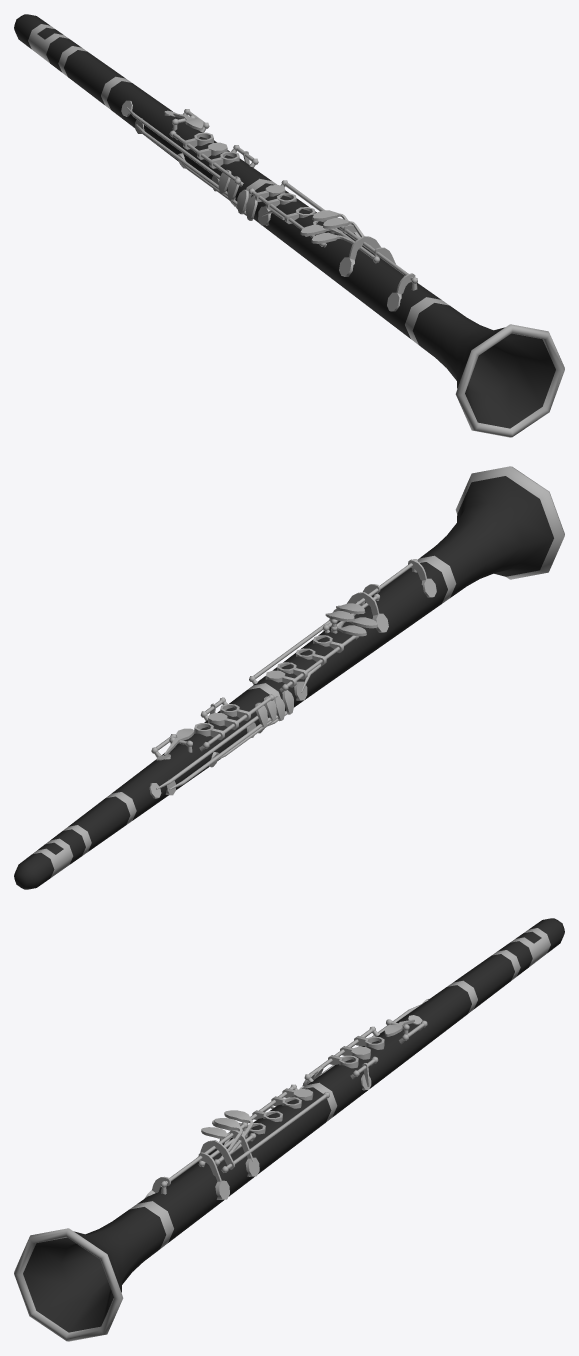
File: Clarinet_01.fbx
The picture shows the model from 3 angles, top to bottom: view 1: azimuth 30°, elevation 25°; view 2: azimuth 150°, elevation 25°; view 3: azimuth 330°, elevation 25°; orthographic projection.
Visible parts, largest first — view 1: Clarinet_01; view 2: Clarinet_01; view 3: Clarinet_01.
Boxes of the visible parts, x1,y1,x2,y2 form: Clarinet_01: (14,14,564,437); Clarinet_01: (14,466,564,889); Clarinet_01: (14,918,564,1341).
Bounding box in the file's own units: 0.1126 × 0.112 × 0.8788.
